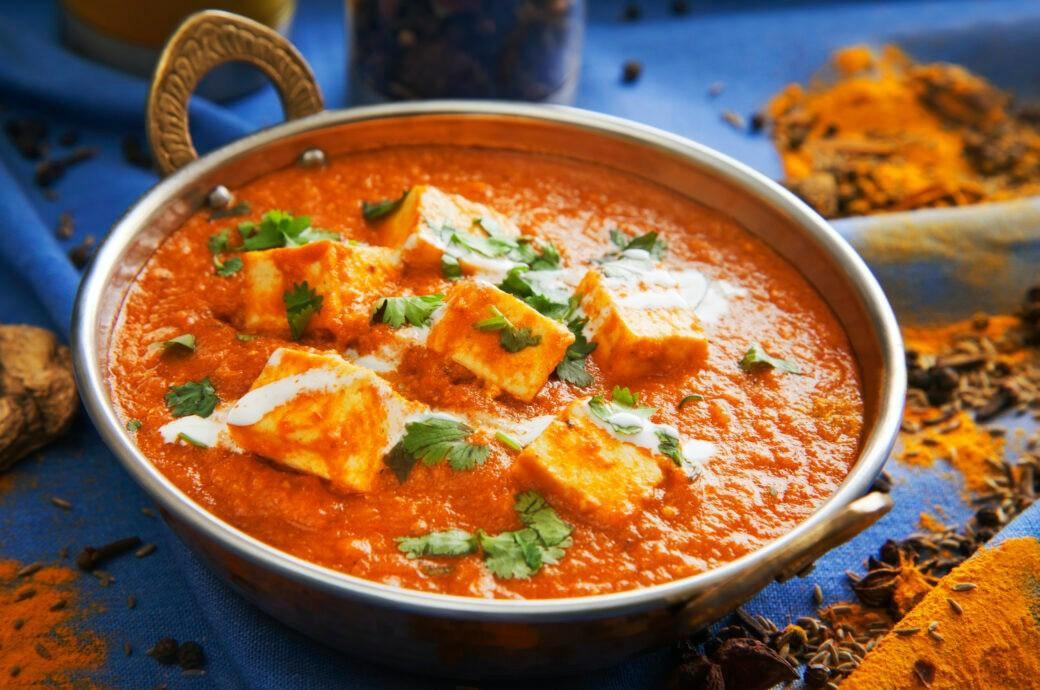ShahiPaneer: (106, 137, 875, 598)
